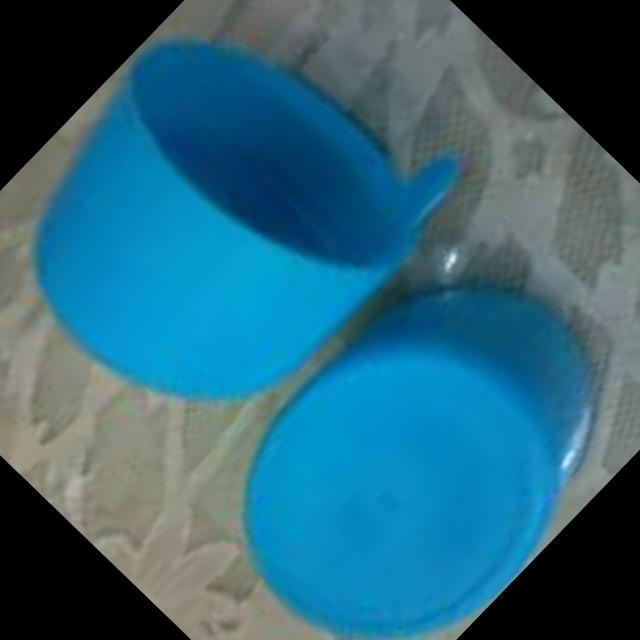TutupGalon: (0, 0, 482, 474), (173, 194, 640, 640)
